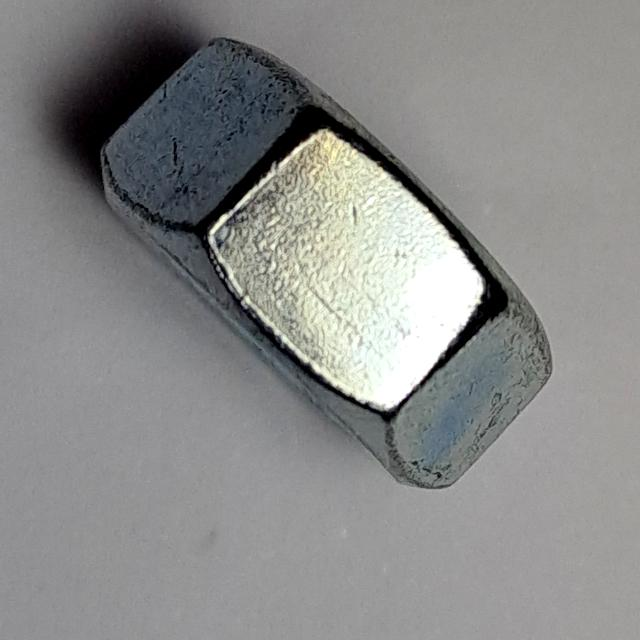Side_Excellent: (90, 23, 574, 500)
